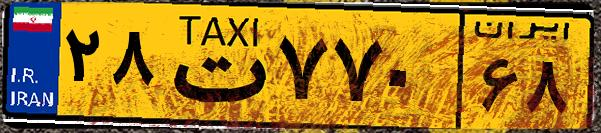0: (385, 28, 445, 110)
2: (57, 26, 110, 100)
6: (475, 38, 525, 113)
7: (270, 28, 330, 110), (330, 28, 385, 110)
8: (525, 38, 570, 115), (110, 28, 158, 98)
ت: (158, 12, 270, 120)
